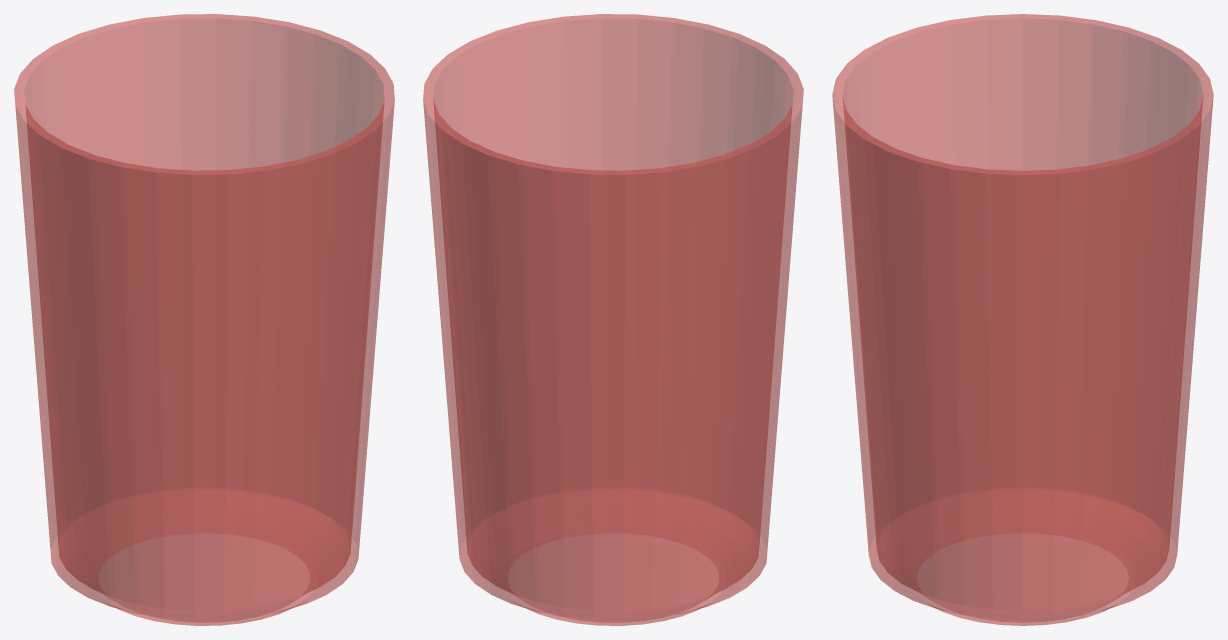
The model's file is vaso5.fbx.
3 views of the same model, side by side, from view 1: azimuth 30°, elevation 25°; view 2: azimuth 150°, elevation 25°; view 3: azimuth 270°, elevation 25° (orthographic).
Parts seen in each view (by area): view 1: Cylinder; view 2: Cylinder; view 3: Cylinder.
Part boxes in pixels (x1,y1,x2,y2): Cylinder: [14, 14, 394, 625]; Cylinder: [423, 14, 803, 625]; Cylinder: [832, 14, 1213, 625].
Bounding box in the file's own units: 477 × 666 × 477.
